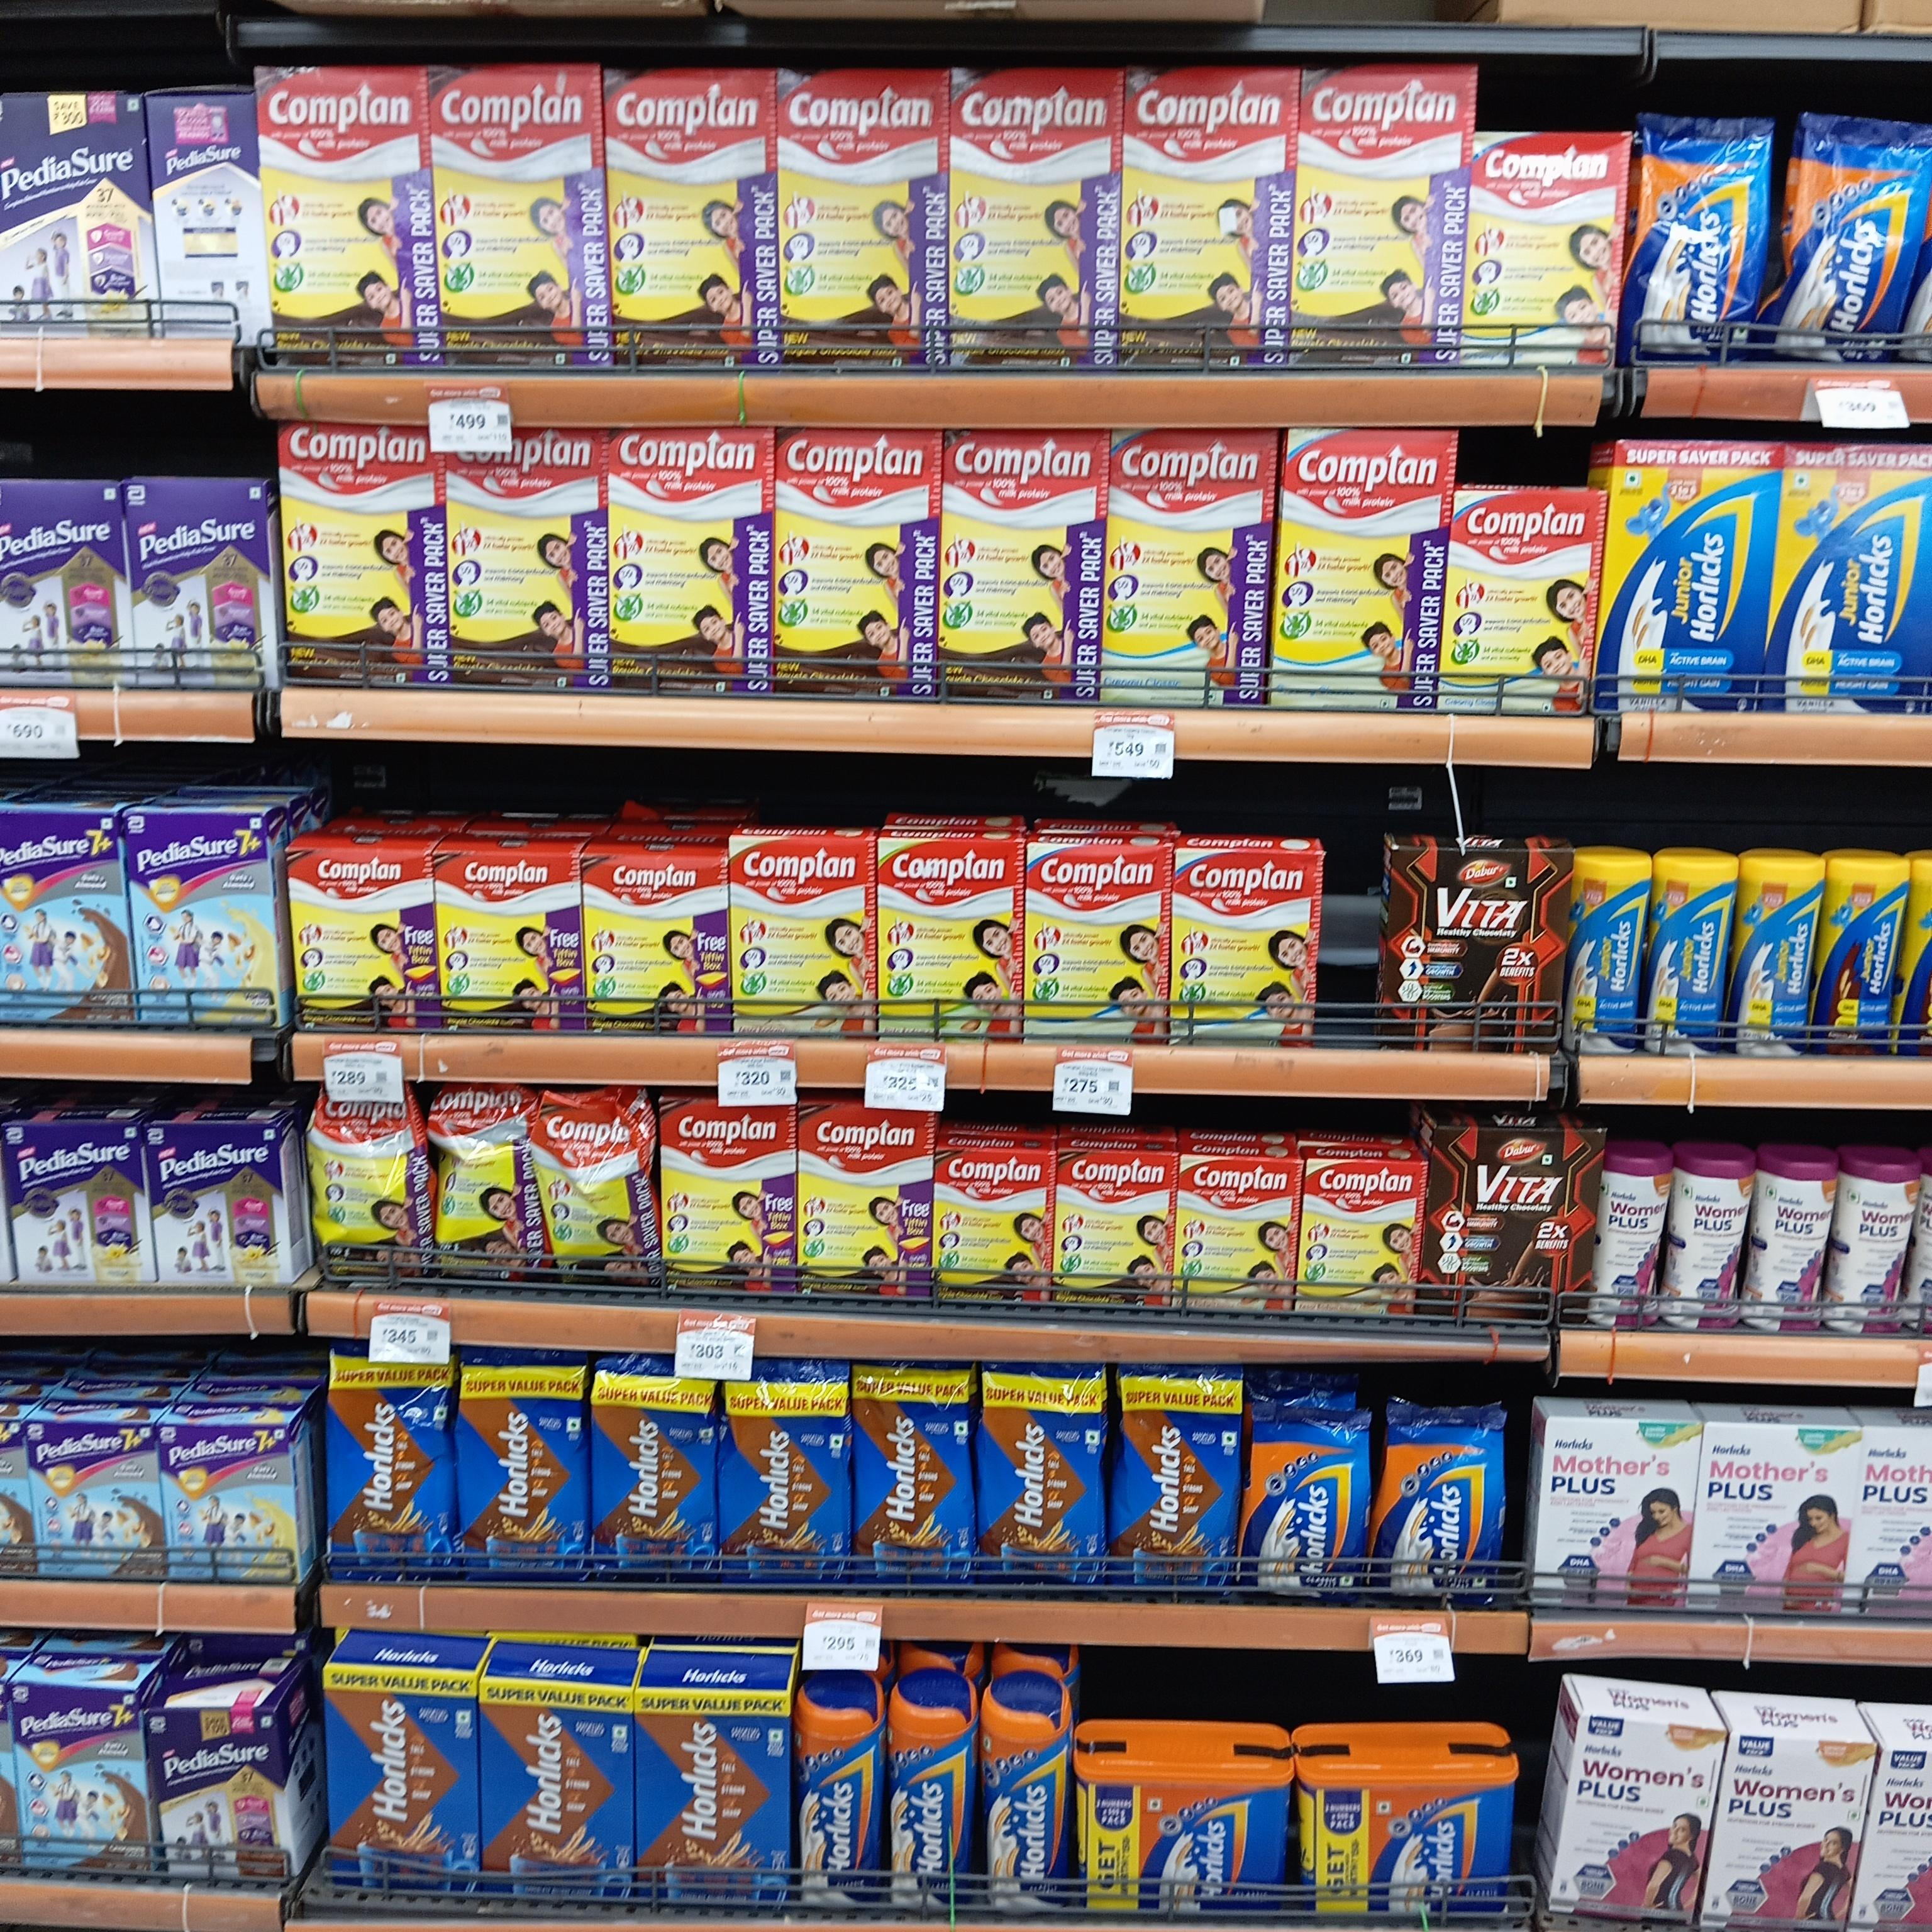COMPLAN_CHOCOLATE_1_KG_PACK: (257, 67, 433, 370), (777, 67, 945, 370), (435, 69, 600, 377), (603, 65, 768, 370), (954, 69, 1115, 372), (1302, 65, 1460, 370), (1129, 69, 1284, 373), (941, 428, 1100, 708), (280, 416, 444, 685), (775, 425, 931, 706), (607, 432, 761, 699), (449, 430, 600, 690), (798, 1108, 927, 1309), (662, 1099, 791, 1299)
COMPLAN_CHOCOLATE_500_GMS_PACK: (285, 842, 428, 1030), (582, 855, 724, 1037), (432, 853, 571, 1037), (1056, 1148, 1173, 1318), (934, 1150, 1042, 1309)
COMPLAN_CREAMY_CLASSIC_500_G_PACK: (1451, 494, 1599, 722), (1474, 134, 1615, 363), (1024, 842, 1166, 1047), (1173, 851, 1309, 1047)
COMPLAN_KESAR_BADAM_500_GMS_PACK: (729, 839, 878, 1039), (1177, 1157, 1292, 1316), (1304, 1162, 1417, 1320)
COMPLAN_PISTA_BADAM_500_GMS_PACK: (878, 840, 1028, 1040)
COMPLAN_RC_POUCH_700_GMS_12: (315, 1083, 426, 1292), (534, 1095, 642, 1304), (435, 1083, 534, 1288)
HORLICKS_JUNIOR_VANILLA_500_GM_JAR: (1656, 851, 1736, 1060), (1571, 855, 1649, 1053), (1744, 860, 1815, 1056)
HORLICK_CHOCOLATE_1_KG_PACK: (640, 1688, 786, 1930), (483, 1683, 635, 1909), (331, 1667, 479, 1895)
HORLICK_CHOCOLATE_750_G_POUCH: (727, 1352, 851, 1592), (1116, 1366, 1242, 1603), (593, 1350, 711, 1587), (465, 1355, 584, 1587), (331, 1352, 451, 1580), (982, 1362, 1099, 1596), (858, 1361, 975, 1587)
HORLICK_CLASSIC_MALT_750_G_POUCH: (1790, 110, 1932, 343), (1642, 117, 1766, 356), (1380, 1405, 1504, 1603), (1256, 1412, 1366, 1608)
HORLICK_MALT_1_KG_CONTAINER: (1081, 1760, 1290, 1932), (1307, 1764, 1520, 1932)
PEDIASURE_7_PLUS_CHOCOLATE_400_G_PACK: (0, 810, 126, 1023), (12, 1683, 147, 1879), (27, 1419, 163, 1583)
PEDIASURE_CHOCOLATE_500_G_PACK: (154, 1709, 292, 1888)
PEDIASURE_VANILLA_500_G_PACK: (2, 94, 152, 343), (133, 479, 274, 690), (0, 485, 124, 688), (150, 1122, 288, 1292), (7, 1123, 147, 1286)
